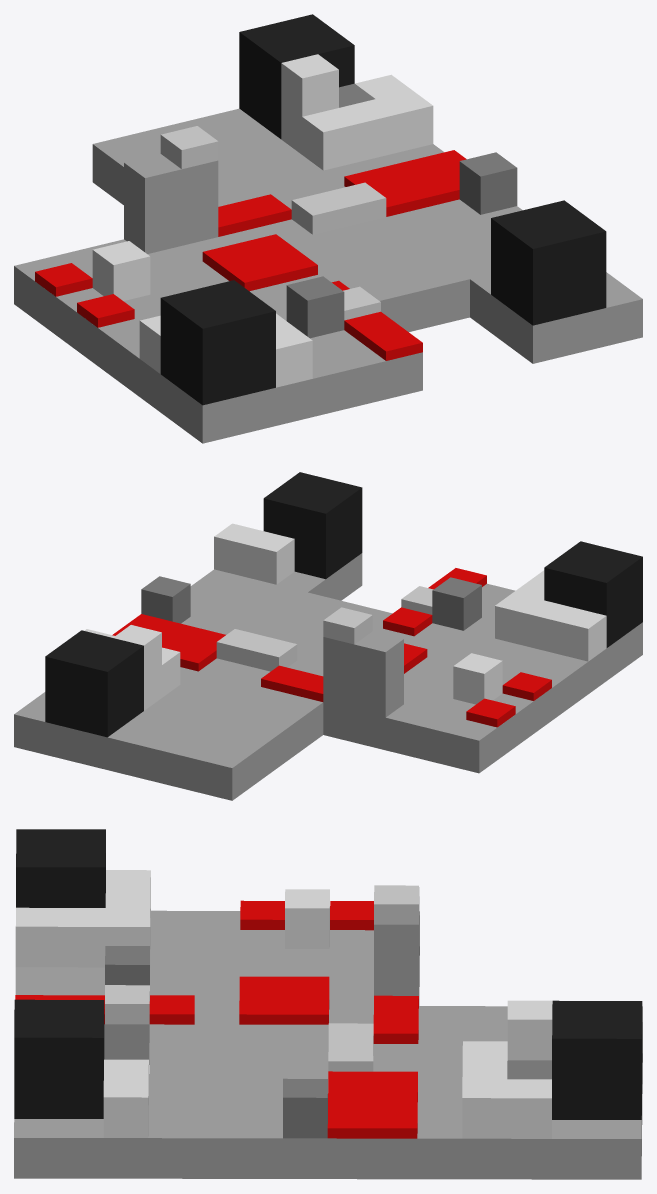
Rendered from Level3_CandiceDennis.fbx.
3 views of the same model, one above another, from view 1: azimuth 30°, elevation 25°; view 2: azimuth 150°, elevation 25°; view 3: azimuth 270°, elevation 25° (orthographic). The views are drawn at different scales.
Parts seen in each view (by area): view 1: polySurface255, polySurface256, polySurface253, polySurface262, polySurface518, polySurface248, polySurface245, polySurface244, polySurface261, polySurface251, polySurface252, polySurface520 (+58 smaller); view 2: polySurface262, polySurface255, polySurface256, polySurface244, polySurface518, polySurface263, polySurface520, polySurface253, polySurface248, polySurface530, polySurface251, polySurface505 (+69 smaller); view 3: polySurface262, polySurface255, polySurface253, polySurface244, polySurface256, polySurface248, polySurface245, polySurface263, polySurface520, polySurface574, polySurface562, polySurface536 (+71 smaller).
Boxes of the visible parts, x1=… form: polySurface255: x1=491, y1=200, x2=606, y2=325; polySurface256: x1=160, y1=280, x2=275, y2=405; polySurface253: x1=281, y1=54, x2=433, y2=170; polySurface262: x1=239, y1=14, x2=354, y2=138; polySurface518: x1=124, y1=154, x2=181, y2=253; polySurface248: x1=344, y1=150, x2=466, y2=216; polySurface245: x1=202, y1=234, x2=317, y2=291; polySurface244: x1=139, y1=313, x2=312, y2=387; polySurface261: x1=459, y1=152, x2=517, y2=214; polySurface251: x1=286, y1=276, x2=344, y2=338; polySurface252: x1=92, y1=241, x2=150, y2=300; polySurface520: x1=181, y1=160, x2=218, y2=245; polySurface262: x1=45, y1=630, x2=143, y2=737; polySurface255: x1=263, y1=472, x2=362, y2=579; polySurface256: x1=544, y1=541, x2=642, y2=647; polySurface244: x1=495, y1=570, x2=606, y2=661; polySurface518: x1=354, y1=631, x2=403, y2=750; polySurface263: x1=214, y1=523, x2=294, y2=584; polySurface520: x1=323, y1=637, x2=354, y2=742; polySurface253: x1=84, y1=625, x2=180, y2=710; polySurface248: x1=112, y1=614, x2=225, y2=671; polySurface530: x1=201, y1=747, x2=250, y2=800; polySurface251: x1=432, y1=577, x2=481, y2=630; polySurface505: x1=448, y1=720, x2=497, y2=773; polySurface262: x1=552, y1=1000, x2=642, y2=1119; polySurface255: x1=14, y1=999, x2=104, y2=1118; polySurface253: x1=462, y1=1000, x2=552, y2=1138; polySurface244: x1=15, y1=870, x2=150, y2=967; polySurface256: x1=16, y1=829, x2=105, y2=907; polySurface248: x1=327, y1=1071, x2=417, y2=1138; polySurface245: x1=239, y1=976, x2=329, y2=1024; polySurface263: x1=103, y1=1059, x2=148, y2=1137; polySurface520: x1=374, y1=924, x2=418, y2=995; polySurface574: x1=417, y1=1119, x2=462, y2=1179; polySurface562: x1=148, y1=1119, x2=193, y2=1178; polySurface536: x1=596, y1=1120, x2=641, y2=1179.
Bounding box in the file's own units: 12.06 × 3.5 × 14.03.
